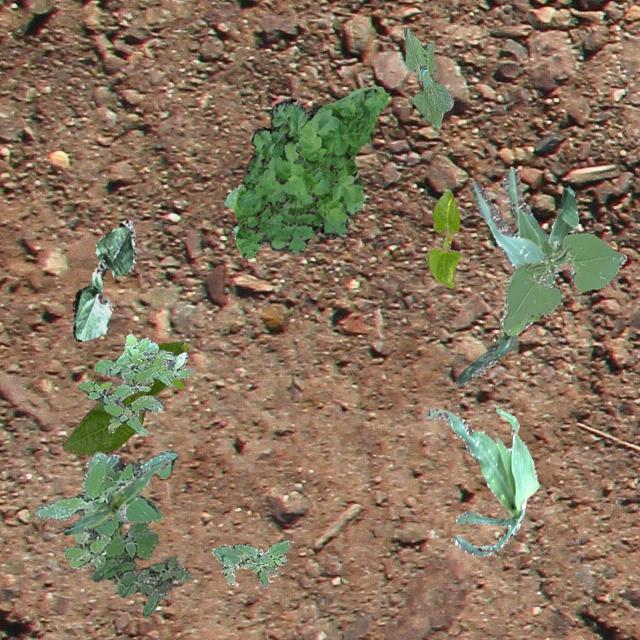crop: (456, 166, 578, 384), (424, 408, 538, 554), (62, 340, 184, 456), (498, 230, 626, 330), (62, 456, 170, 534), (72, 218, 134, 340), (403, 28, 452, 128), (424, 190, 459, 286), (222, 184, 242, 238)
weed: (230, 85, 388, 258), (34, 448, 176, 568), (76, 332, 192, 434), (90, 520, 190, 616), (210, 540, 290, 588), (172, 342, 188, 388)
